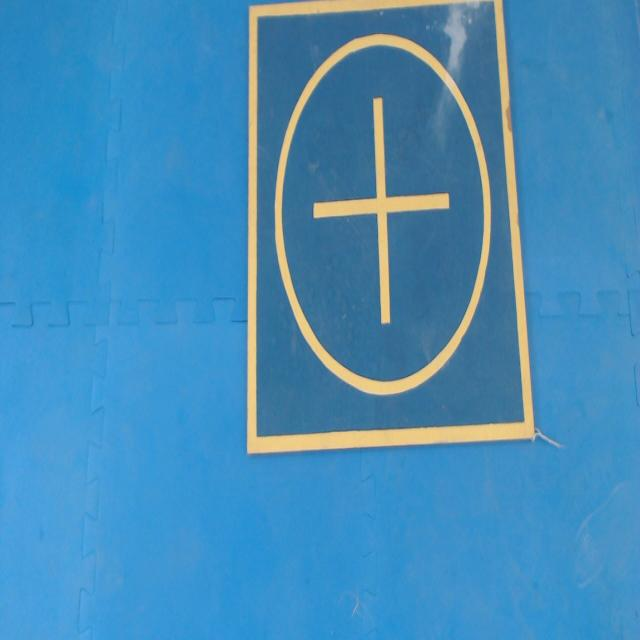base_pouso: (247, 1, 534, 457)
